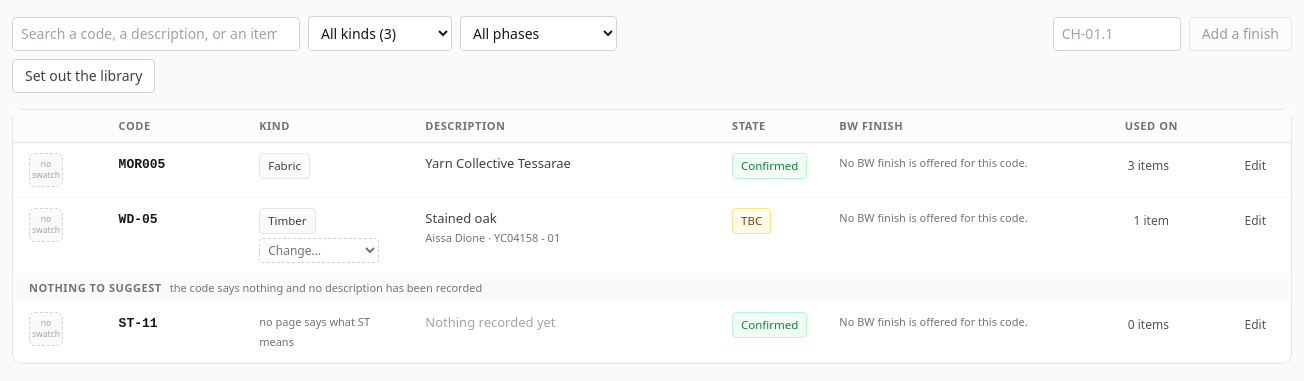
Test: the finishes library › keeps the used-on count at the TOTAL when a phase is filtered
expect the text "MOR005" is shown: met, box [119,157,165,172]
Select "MAIN RUN - VE (1)" in the dropdown named "Filter by phase": (538, 34) [460,16,617,51]
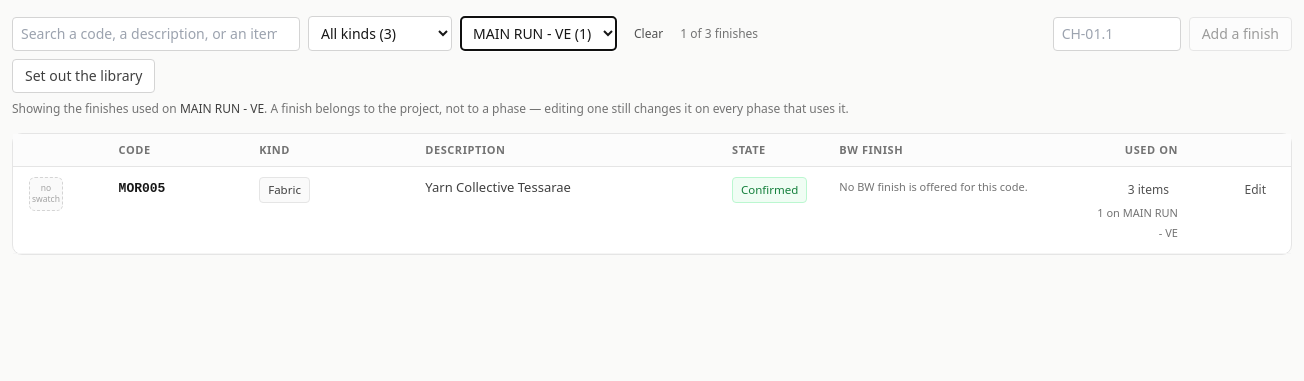
expect the button with aria-label "1 on MAIN RUN - VE" is shown: met, box [1119,177,1178,203]
